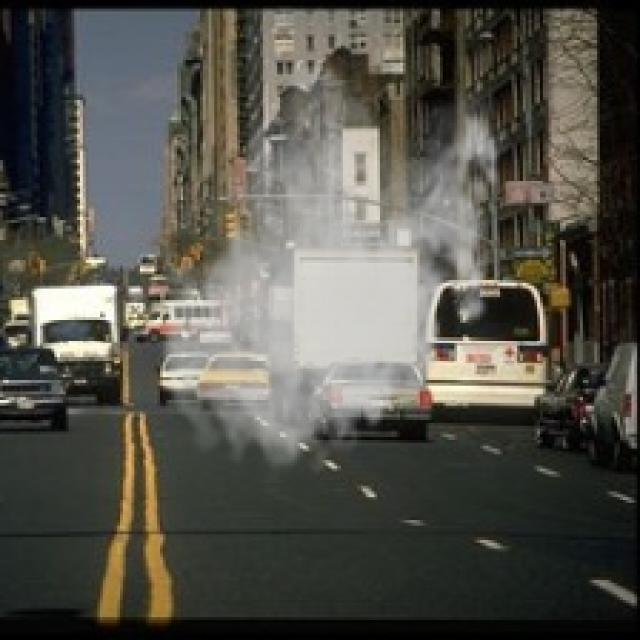smoke: (154, 63, 512, 483)
